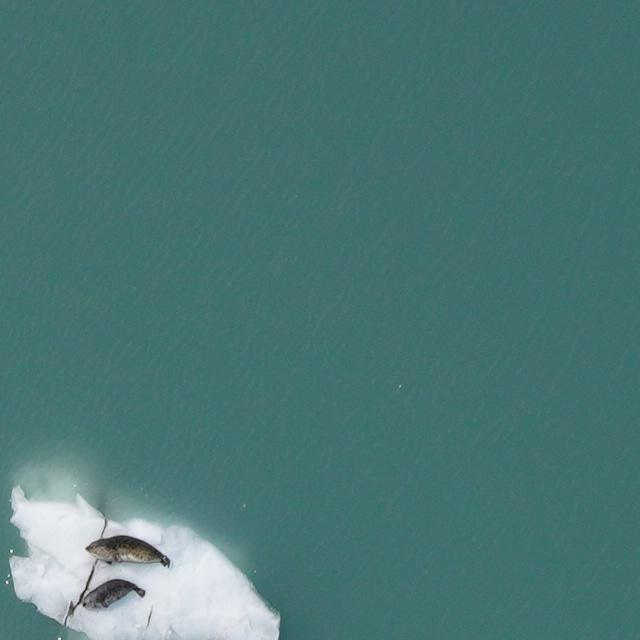seal: (83, 530, 174, 574), (78, 572, 148, 613)
